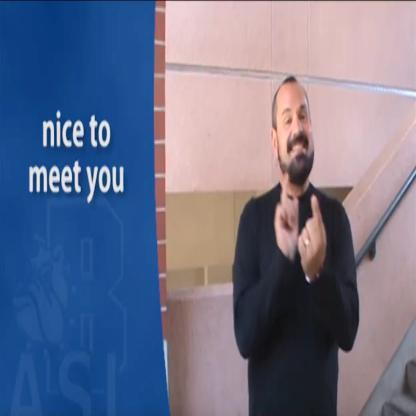NiceToMeetYou: (250, 142, 342, 317)
